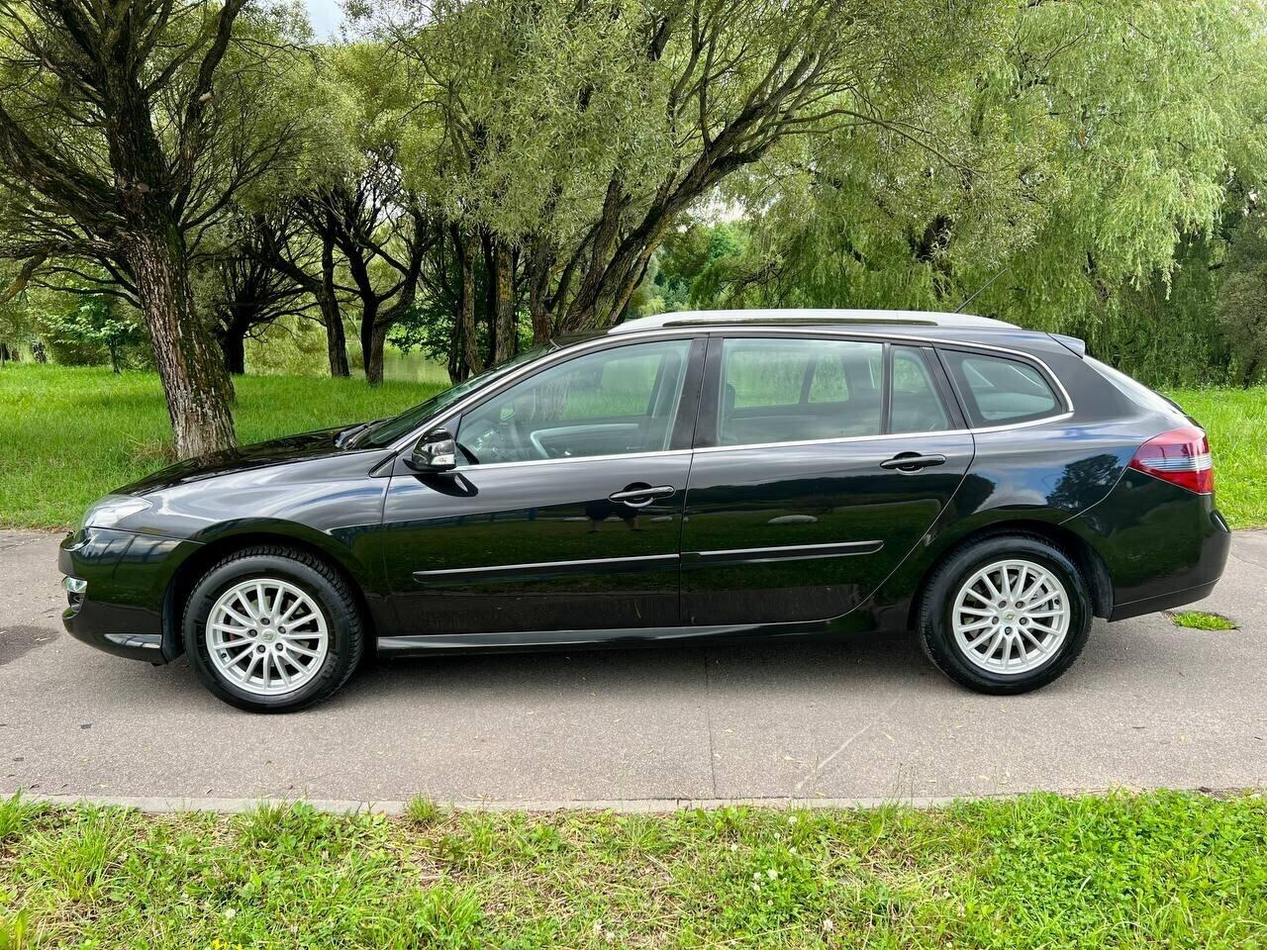Laguna_2010-2015: (56, 296, 1234, 700)
